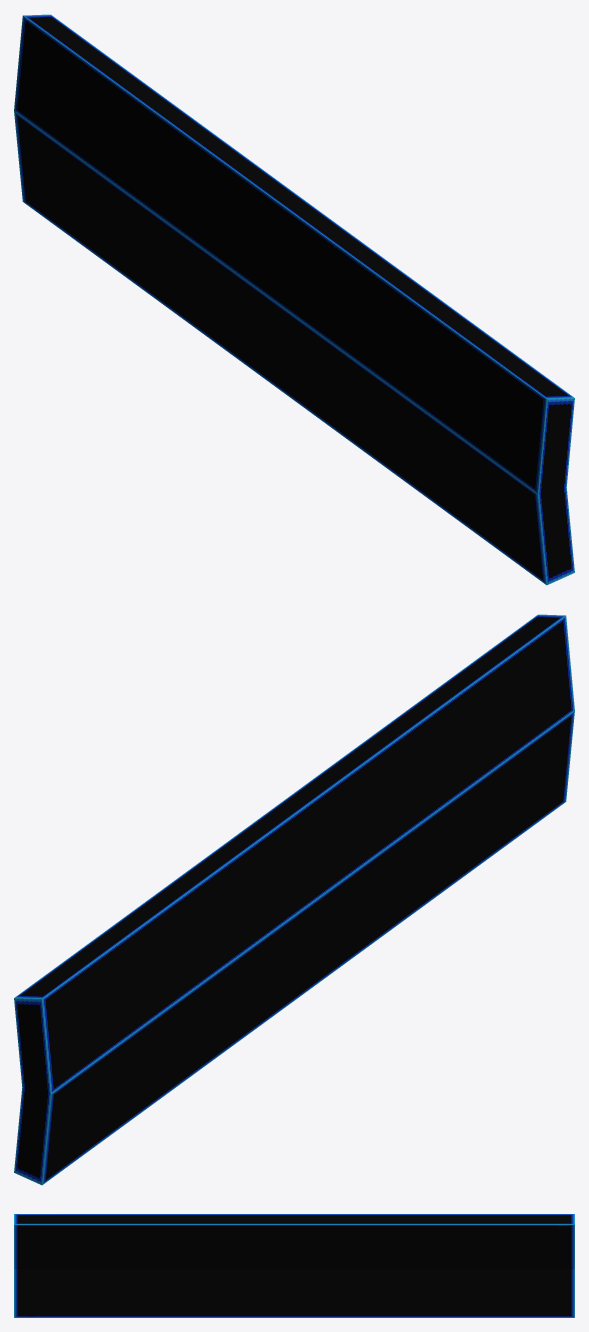
File: stage.fbx
3 views of the same model, one above another, from view 1: azimuth 30°, elevation 25°; view 2: azimuth 150°, elevation 25°; view 3: azimuth 270°, elevation 25° (orthographic). The views are drawn at different scales.
Visible parts, largest first — view 1: 圓柱體.001; view 2: 圓柱體.001; view 3: 圓柱體.001.
Part boxes in pixels (box(x1,y1,x2,y2)): 圓柱體.001: box(14, 14, 574, 585); 圓柱體.001: box(14, 614, 574, 1185); 圓柱體.001: box(14, 1214, 574, 1317).
Bounding box in the file's own units: 0.8087 × 3.9 × 19.89.
Materials: 1 (1 with a texture image).
